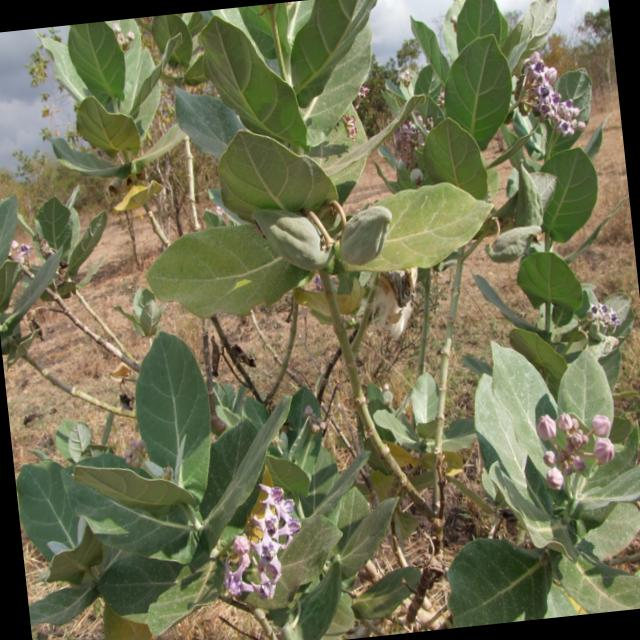Poisonous-Calatropis: (2, 312, 417, 640), (98, 0, 498, 326), (448, 249, 640, 624), (481, 8, 628, 279)
